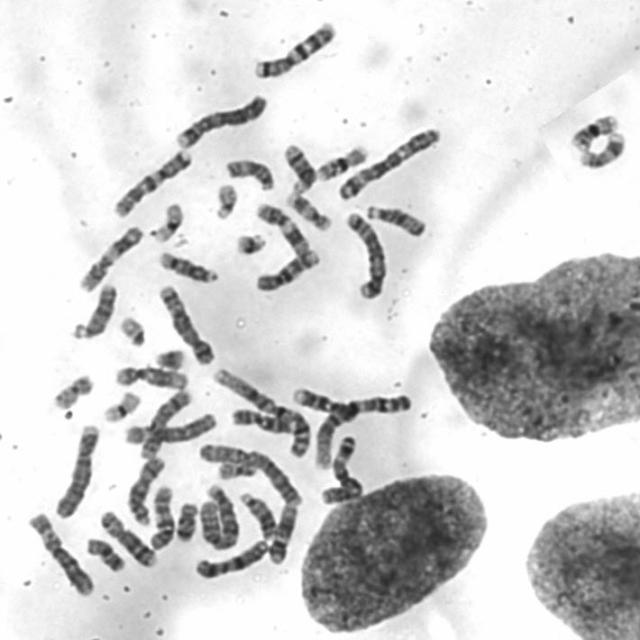A1: (208, 365, 313, 459), (308, 389, 416, 471)
A2: (194, 439, 304, 507), (197, 480, 240, 551)
A3: (336, 123, 444, 202), (320, 433, 375, 509)
B4: (171, 90, 270, 150), (50, 420, 101, 520)
B5: (155, 281, 216, 366), (341, 209, 388, 301)
C10: (250, 247, 322, 294), (146, 481, 176, 551)
C11: (76, 222, 145, 292), (252, 200, 312, 257)
C12: (111, 362, 190, 391), (266, 500, 299, 566)
C6: (24, 508, 96, 596), (121, 408, 219, 446)
C7: (109, 146, 194, 219), (249, 17, 340, 81)
C8: (136, 385, 195, 461), (96, 508, 157, 568)
C9: (289, 384, 367, 422), (225, 405, 298, 438)
D13: (68, 279, 119, 341), (236, 489, 277, 539)
D14: (156, 248, 220, 286), (280, 140, 318, 194)
D15: (363, 200, 428, 238), (221, 154, 277, 192)
E16: (312, 141, 371, 184), (565, 112, 620, 152)
E17: (283, 188, 334, 233), (578, 132, 626, 170)
E18: (83, 534, 127, 572), (171, 500, 200, 542)
F19: (148, 199, 186, 245), (100, 388, 142, 424)
F20: (49, 370, 96, 410), (213, 457, 258, 479)
G21: (232, 228, 268, 258), (150, 345, 188, 372)
G22: (211, 180, 240, 221), (115, 312, 148, 348)
X: (190, 536, 270, 580), (124, 452, 167, 526)
